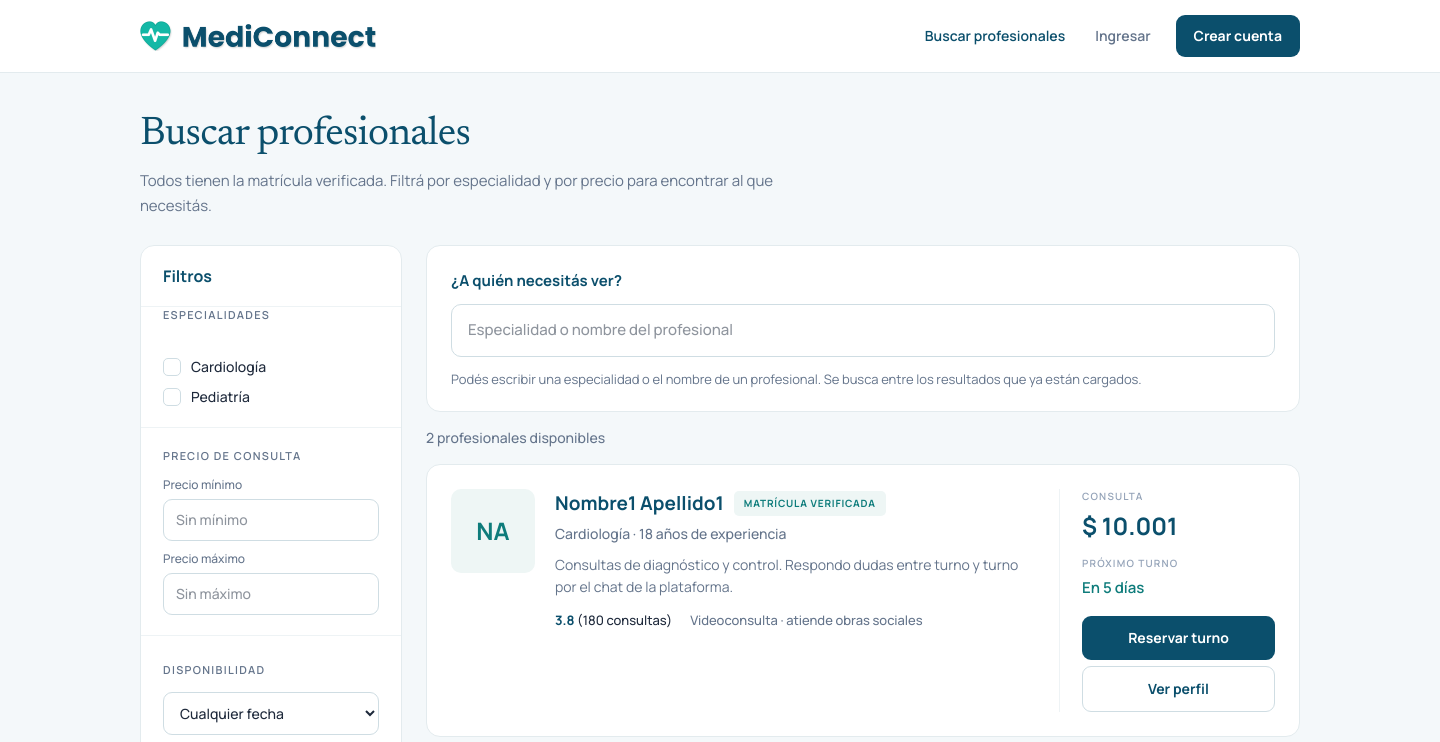
CatalogPage (ENG-49) › mantiene los filtros válidos mientras el rango de precio está invertido
Expected: the heading "Nombre1 Apellido1" is shown, left=555, top=489, right=724, bottom=518
Click the checkbox labelled "Pediatría" at (206, 396), box left=163, top=387, right=250, bottom=406
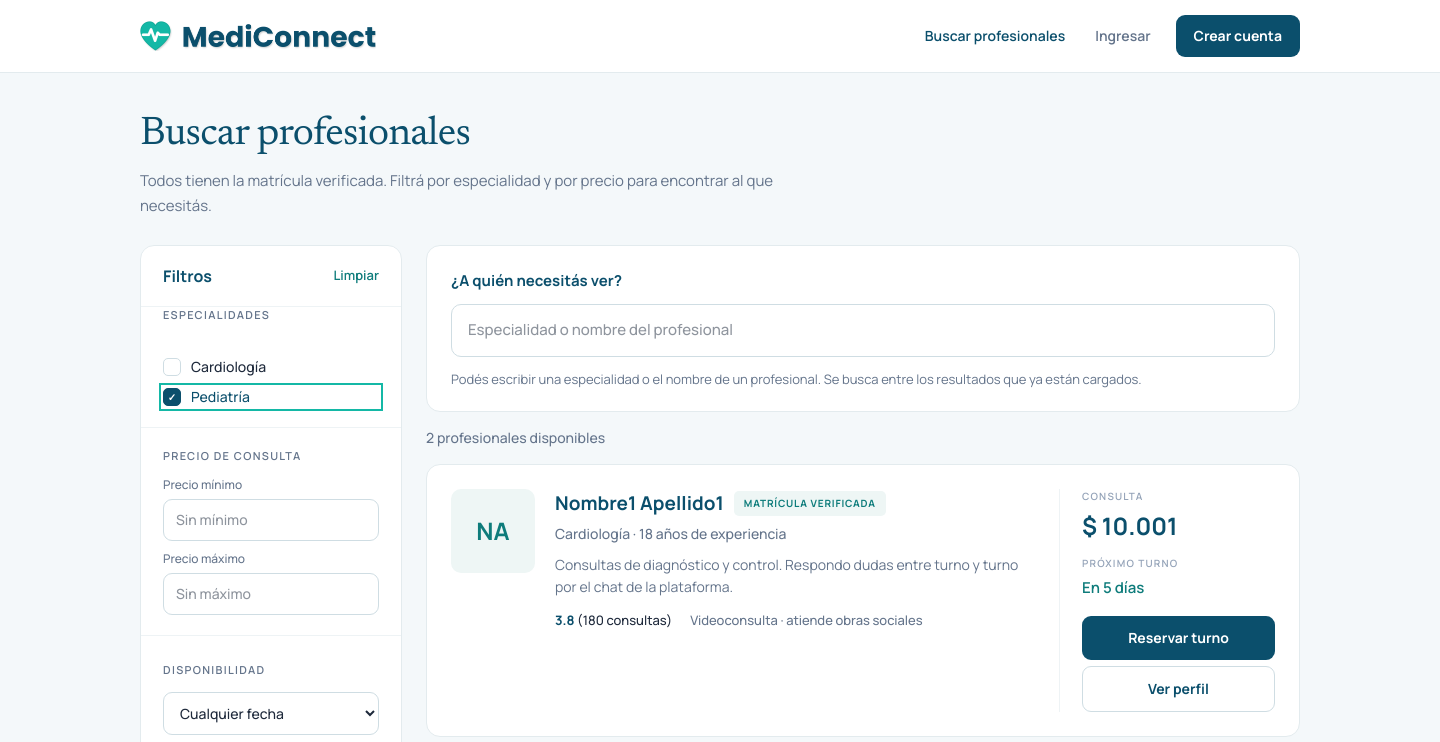
Type "9000" into the number field labelled "Precio mínimo" at (271, 520), box left=163, top=498, right=379, bottom=540
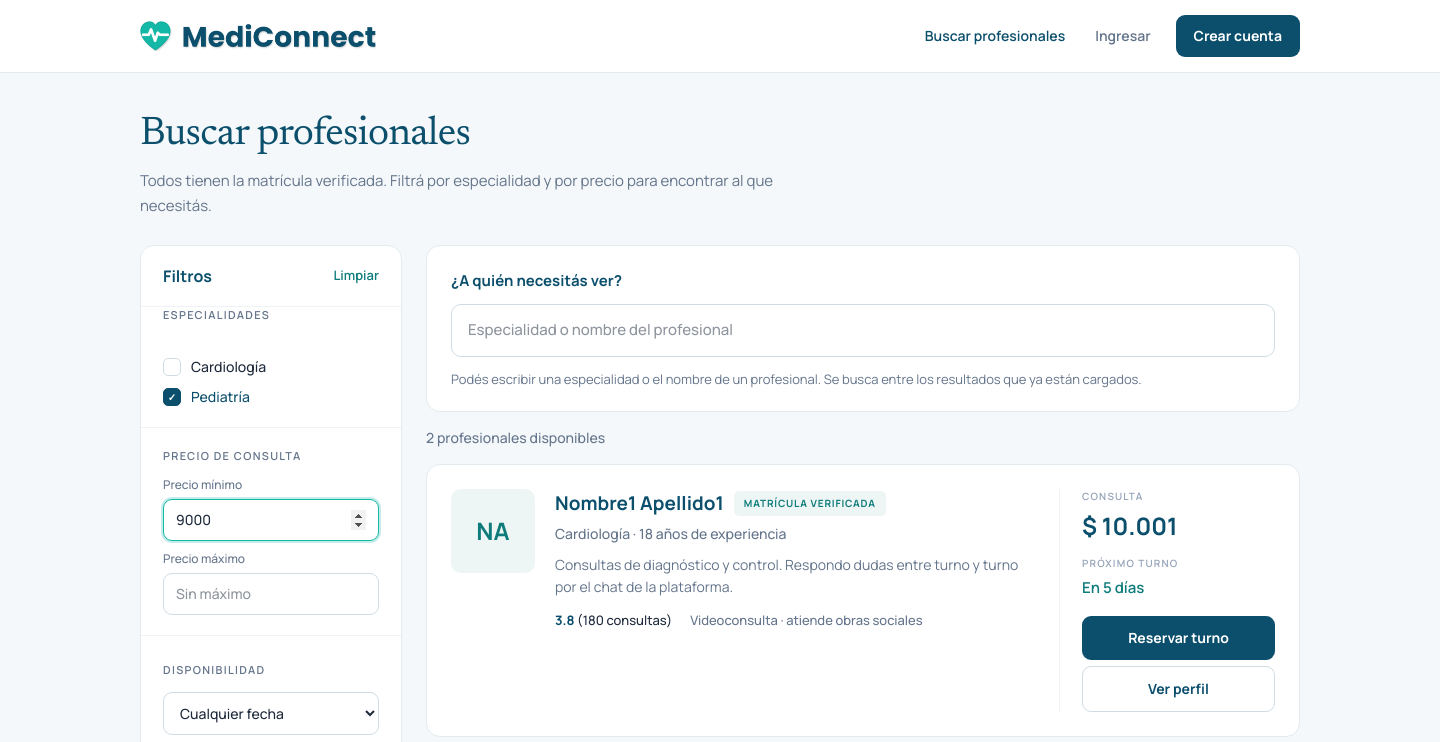
Type "1" into the number field labelled "Precio máximo" at (271, 594), box left=163, top=572, right=379, bottom=614
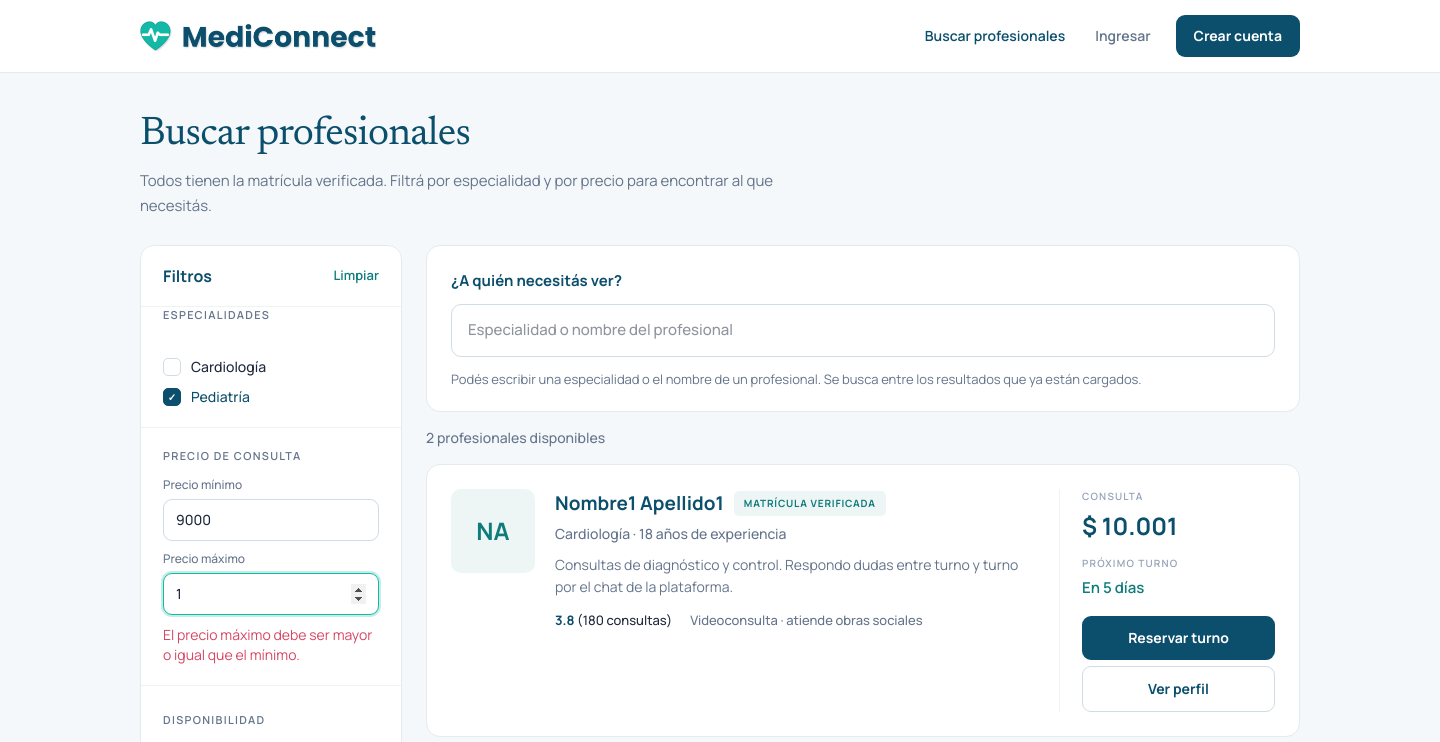
Expected: the text "El precio máximo debe ser mayor o igual que el mínimo." is shown, left=163, top=624, right=379, bottom=664
